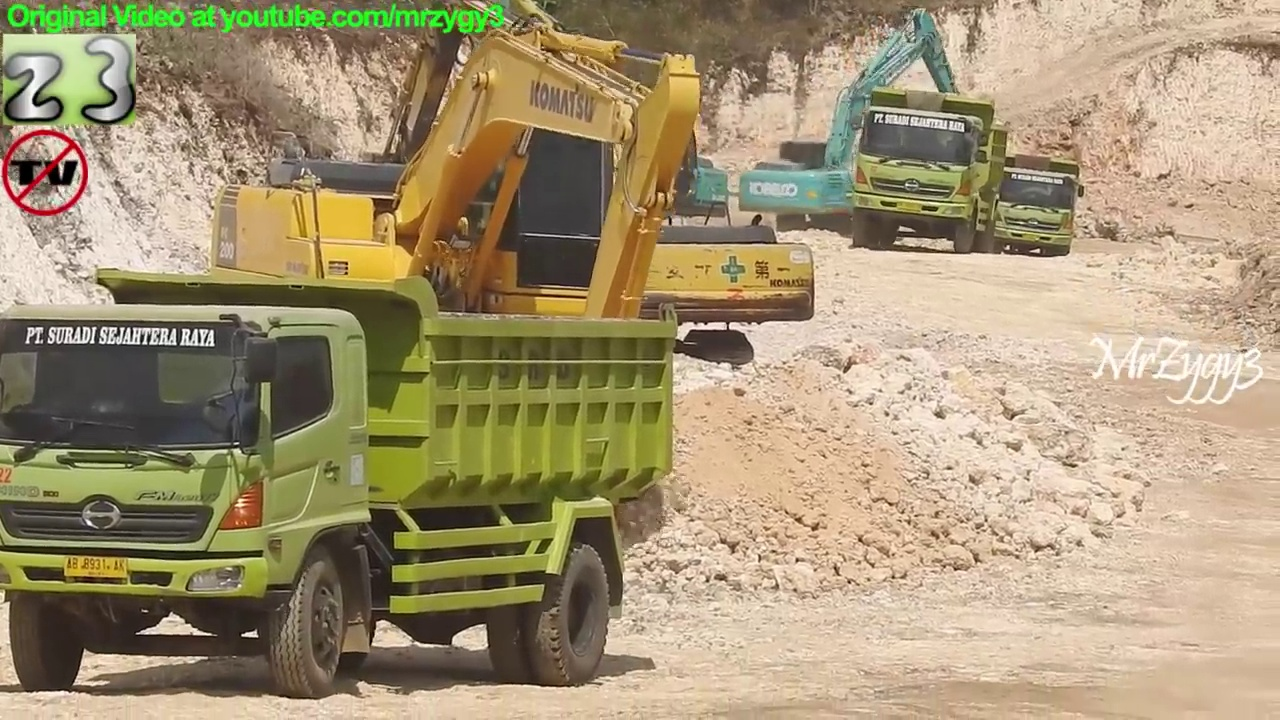excavator: (213, 26, 699, 420), (740, 11, 970, 235)
truck: (5, 269, 683, 698), (855, 87, 1003, 256), (998, 154, 1080, 257)
